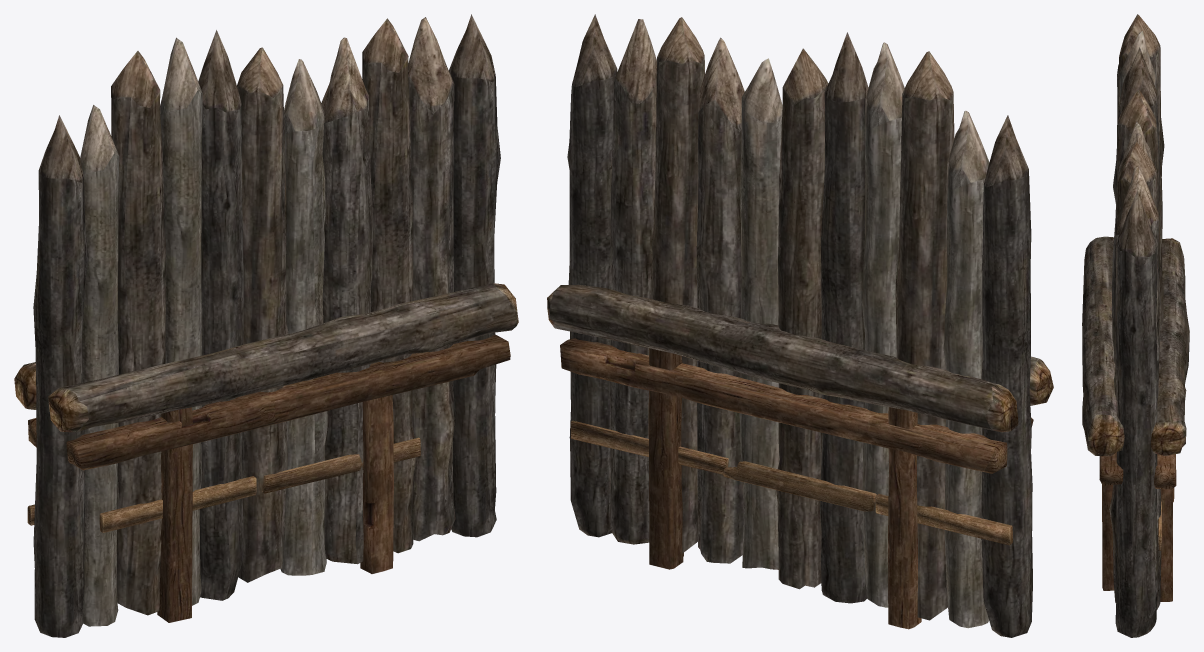
File: o_mdl_env_buildingLogWoodSculptWallB-transformed.glb
3 renders of one model, left to right at view 1: azimuth 30°, elevation 25°; view 2: azimuth 150°, elevation 25°; view 3: azimuth 270°, elevation 25°, orthographic. The views are drawn at different scales.
Parts seen in each view (by area): view 1: default; view 2: default; view 3: default.
Part boxes in pixels (<box>): default: <box>14,14,518,637</box>; default: <box>547,14,1053,637</box>; default: <box>1082,14,1189,637</box>.
Bounding box in the file's own units: 8.02 × 9.38 × 1.9.
Materials: 2 (2 with a texture image).
